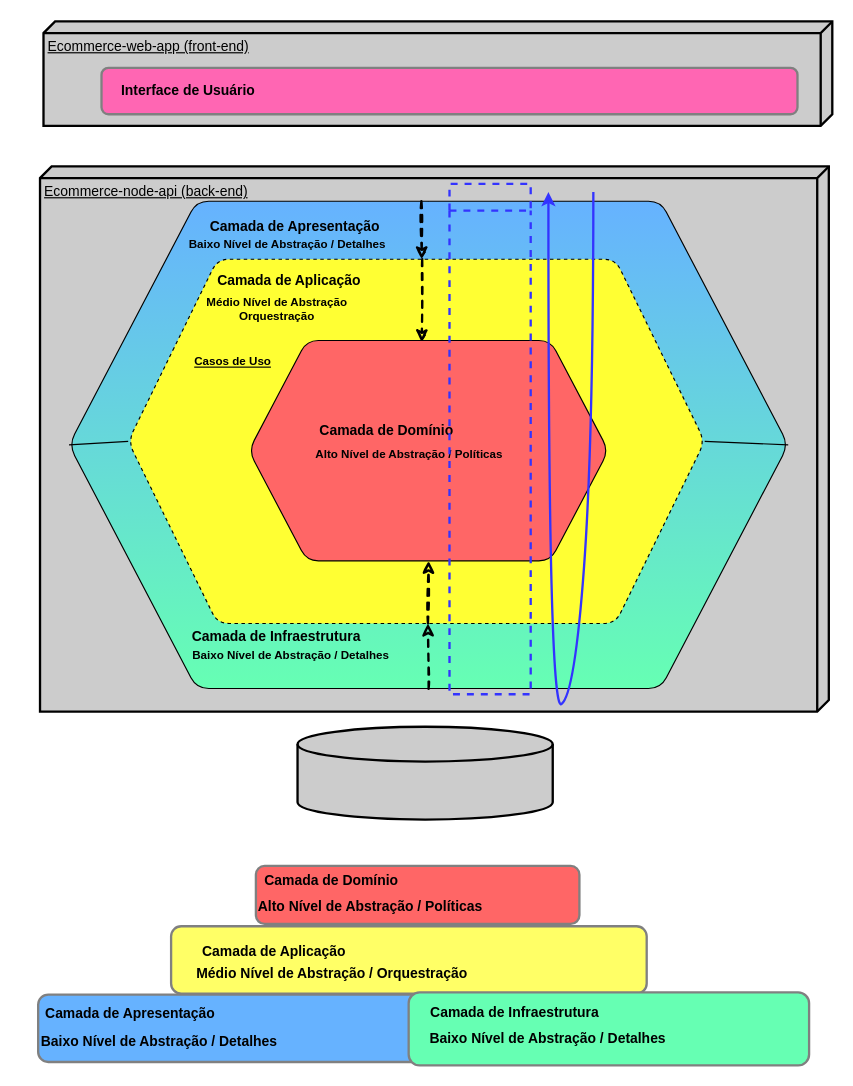
Some shapes in this 853 by 1086 pixel diagram are drawn without their labels. The shapes that lost their labels are listed below. From the top down, each one's box as (x1, y1, x2, y2) in pixels, then its label:
(448, 182, 531, 695): Modules
(296, 725, 553, 820): Database (Relacional)
